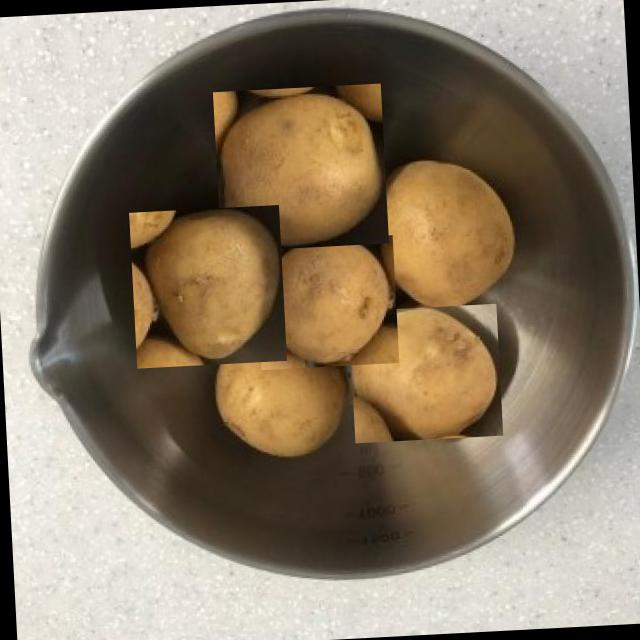Potato: (212, 82, 388, 252), (357, 152, 522, 319), (128, 204, 286, 368), (348, 302, 502, 442), (254, 234, 398, 369), (208, 335, 348, 462)
